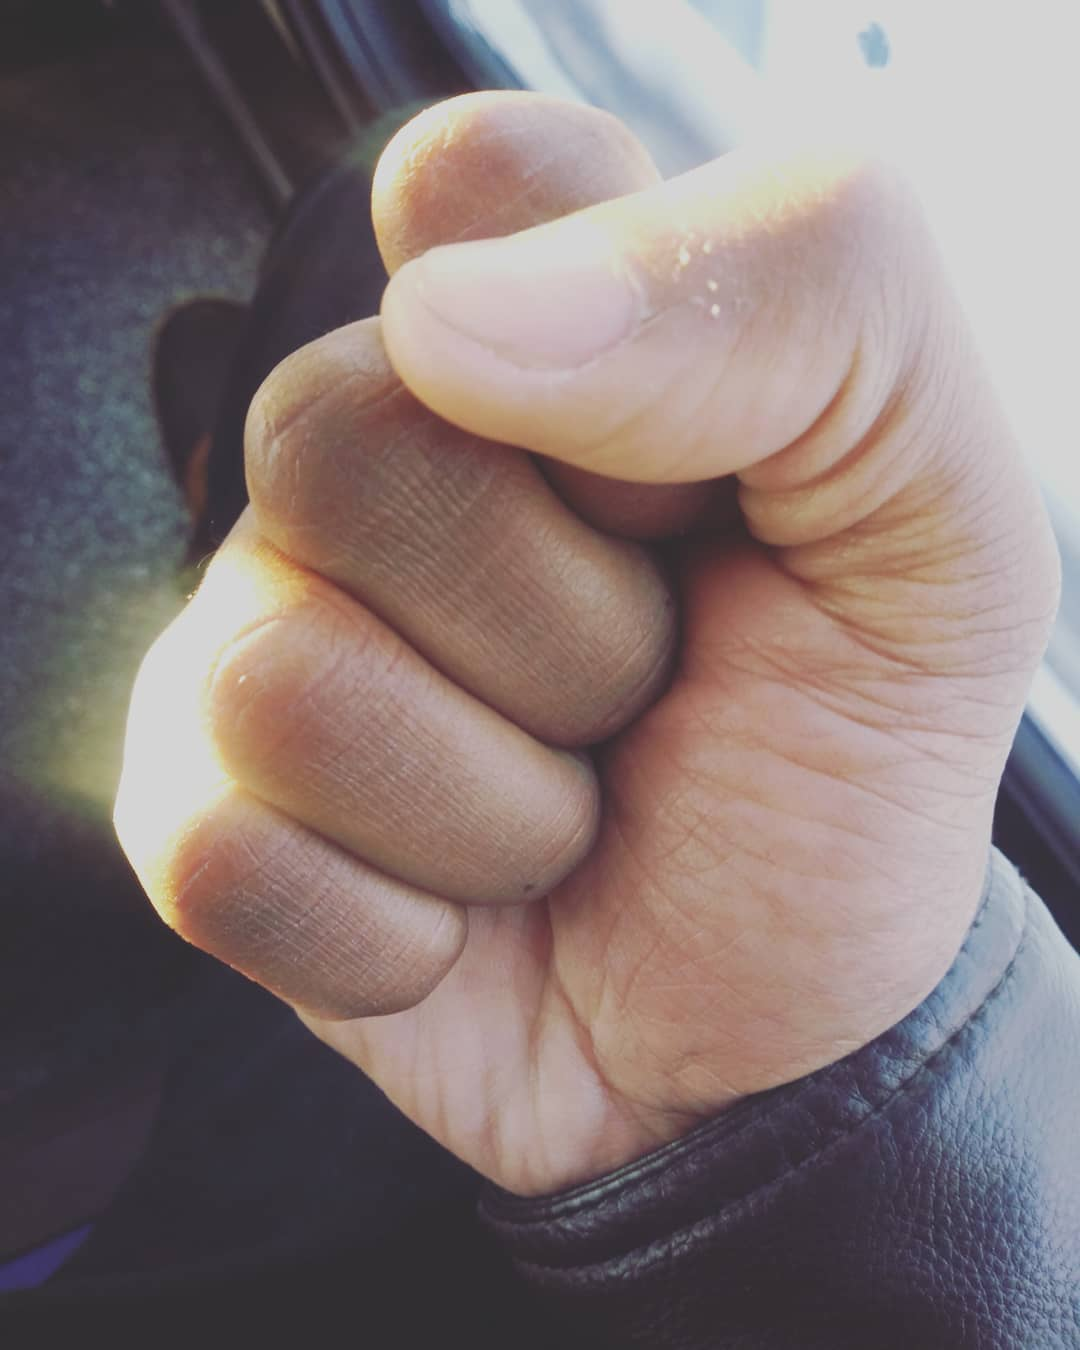hand: (125, 158, 929, 1103)
